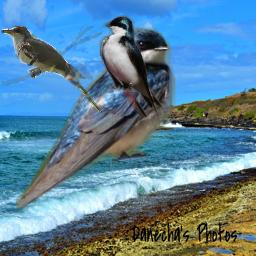Cuckoo: (1, 26, 102, 112)
Swallow: (16, 24, 177, 213), (99, 15, 162, 117)
